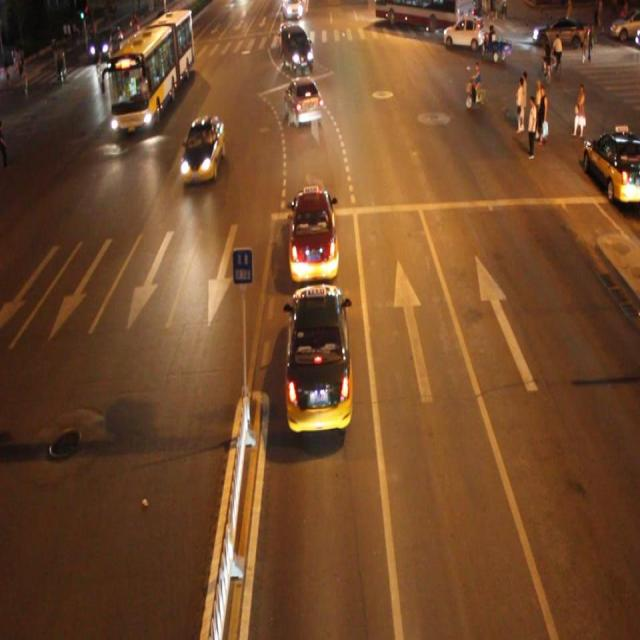car: (285, 284, 353, 429), (287, 188, 339, 284), (180, 116, 225, 179), (284, 76, 322, 127), (280, 28, 314, 75)
van: (107, 10, 191, 133)
